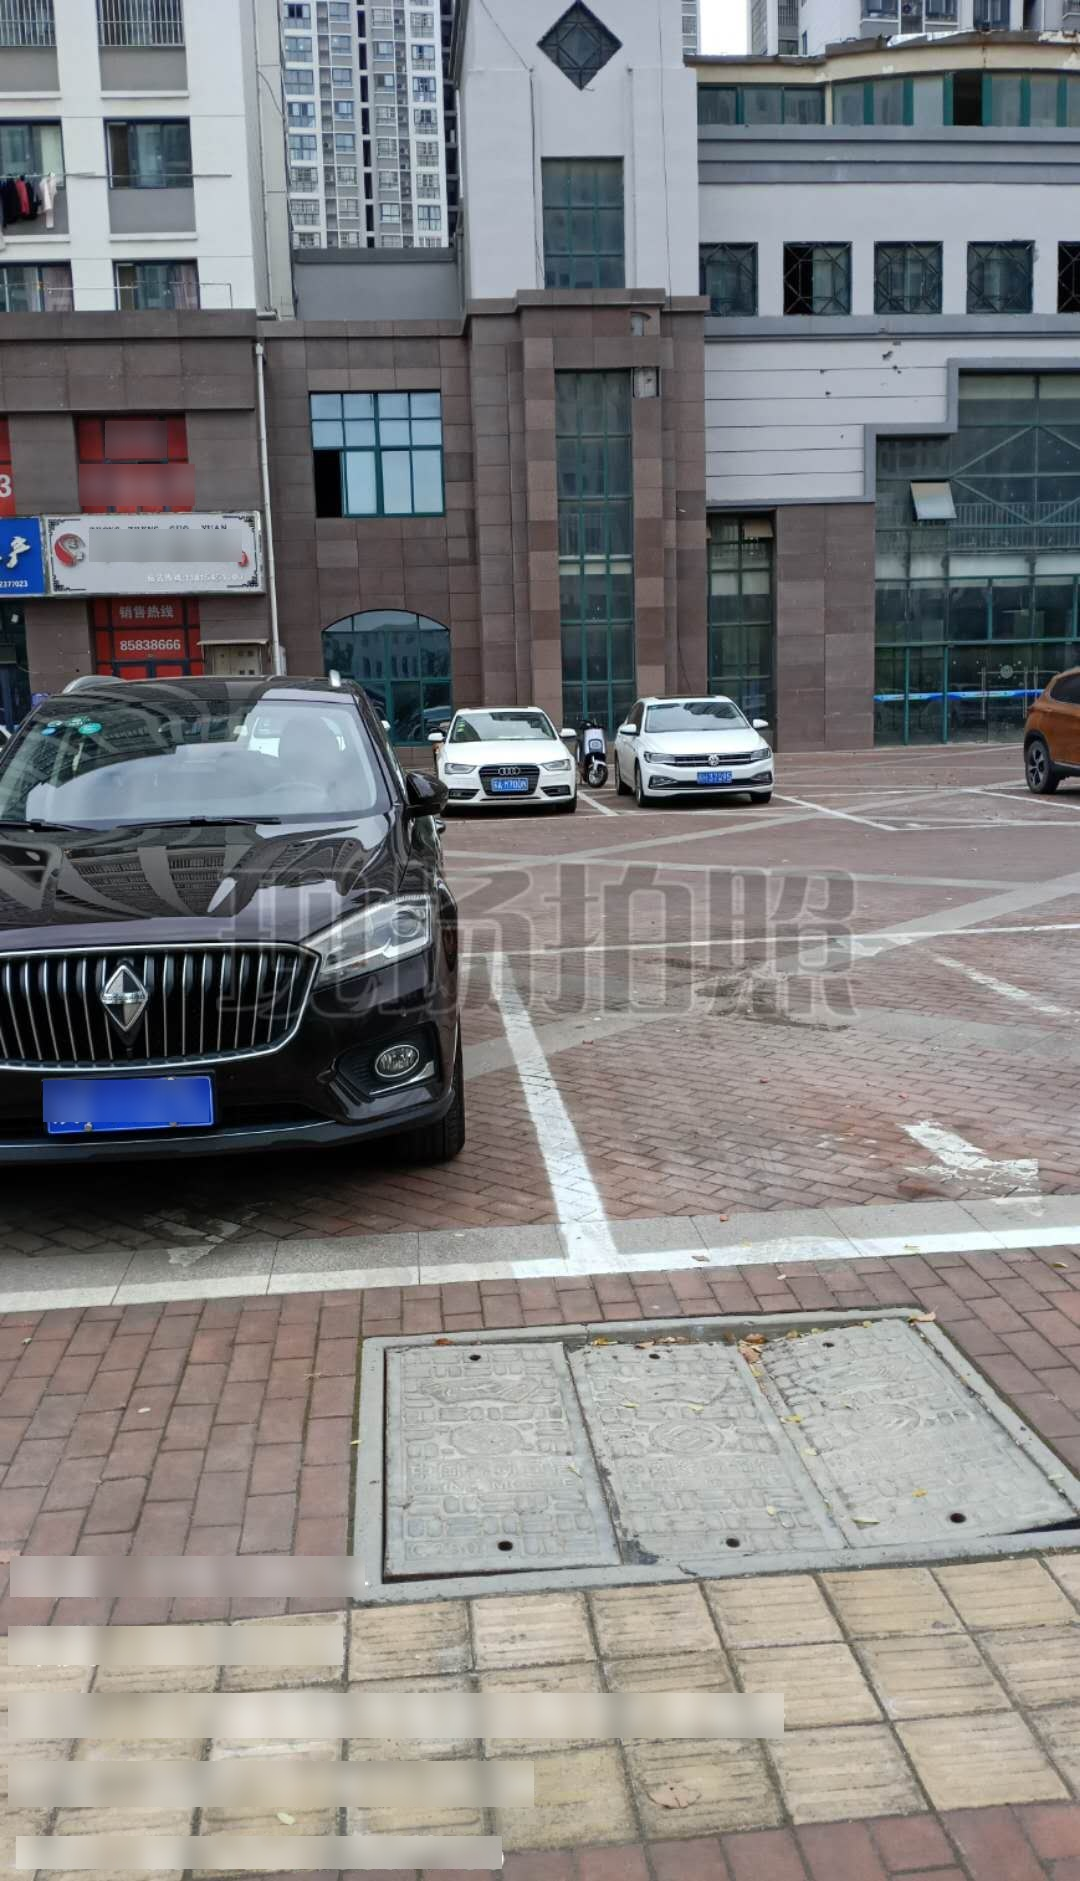uncovered: (344, 1307, 1080, 1595)
